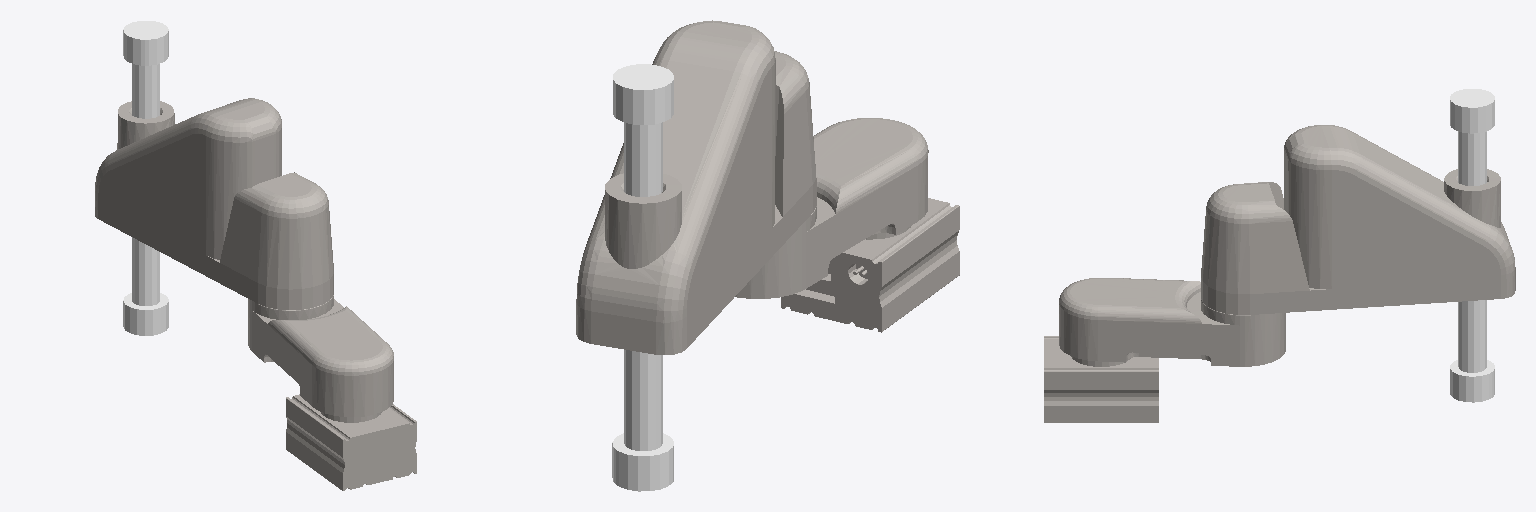
The robot description file, URDF, robot "TayGap":
<?xml version="1.0" encoding="utf-8"?>
<!-- This URDF was automatically created by SolidWorks to URDF Exporter! Originally created by [author] ([email redacted]) 
     Commit Version: 1.6.0-1-g15f4949  Build Version: 1.6.7594.29634
     For more information, please see http://wiki.ros.org/sw_urdf_exporter -->
<robot
  name="TayGap">
  <link
    name="base_link">
    <inertial>
      <origin
        xyz="0.155089529965973 0.0891497928154382 0.106548243989106"
        rpy="0 0 0" />
      <mass
        value="27.154380119055" />
      <inertia
        ixx="0.128305251803877"
        ixy="-0.000131818581333414"
        ixz="-1.11496294415566E-05"
        iyy="0.119231744921295"
        iyz="0.000277151030321704"
        izz="0.0962057704956619" />
    </inertial>
    <visual>
      <origin
        xyz="0 0 0"
        rpy="0 0 0" />
      <geometry>
        <mesh
          filename="package://TayGap/meshes/base_link.STL" />
      </geometry>
      <material
        name="">
        <color
          rgba="0.776470588235294 0.756862745098039 0.737254901960784 1" />
      </material>
    </visual>
    <collision>
      <origin
        xyz="0 0 0"
        rpy="0 0 0" />
      <geometry>
        <mesh
          filename="package://TayGap/meshes/base_link.STL" />
      </geometry>
    </collision>
  </link>
  <link
    name="link_1">
    <inertial>
      <origin
        xyz="3.6563E-09 0.061786 0.15491"
        rpy="0 0 0" />
      <mass
        value="40.19" />
      <inertia
        ixx="0.50815"
        ixy="-1.6635E-09"
        ixz="8.2183E-09"
        iyy="0.50975"
        iyz="-0.033417"
        izz="0.12975" />
    </inertial>
    <visual>
      <origin
        xyz="0 0 0"
        rpy="0 0 0" />
      <geometry>
        <mesh
          filename="package://TayGap/meshes/link_1.STL" />
      </geometry>
      <material
        name="">
        <color
          rgba="0.77647 0.75686 0.73725 1" />
      </material>
    </visual>
    <collision>
      <origin
        xyz="0 0 0"
        rpy="0 0 0" />
      <geometry>
        <mesh
          filename="package://TayGap/meshes/link_1.STL" />
      </geometry>
    </collision>
  </link>
  <joint
    name="joint_1"
    type="continuous">
    <origin
      xyz="0.15509 -0.10565 0.14236"
      rpy="1.5708 0 3.0517" />
    <parent
      link="base_link" />
    <child
      link="link_1" />
    <axis
      xyz="0 1 0" />
  </joint>
  <link
    name="link_2">
    <inertial>
      <origin
        xyz="-3.4462E-08 0.12413 0.20373"
        rpy="0 0 0" />
      <mass
        value="118.94" />
      <inertia
        ixx="2.7618"
        ixy="8.7947E-06"
        ixz="4.7526E-08"
        iyy="2.3197"
        iyz="0.17283"
        izz="0.86325" />
    </inertial>
    <visual>
      <origin
        xyz="0 0 0"
        rpy="0 0 0" />
      <geometry>
        <mesh
          filename="package://TayGap/meshes/link_2.STL" />
      </geometry>
      <material
        name="">
        <color
          rgba="0.77647 0.75686 0.73725 1" />
      </material>
    </visual>
    <collision>
      <origin
        xyz="0 0 0"
        rpy="0 0 0" />
      <geometry>
        <mesh
          filename="package://TayGap/meshes/link_2.STL" />
      </geometry>
    </collision>
  </link>
  <joint
    name="joint_2"
    type="continuous">
    <origin
      xyz="0 0.094021 0.25"
      rpy="0 0.23991 0" />
    <parent
      link="link_1" />
    <child
      link="link_2" />
    <axis
      xyz="0 1 0" />
  </joint>
  <link
    name="link_3">
    <inertial>
      <origin
        xyz="-1.1102E-16 0 -0.077498"
        rpy="0 0 0" />
      <mass
        value="1.4255" />
      <inertia
        ixx="0.051417"
        ixy="0"
        ixz="-8.7334E-19"
        iyy="0.051417"
        iyz="-1.6922E-18"
        izz="0.00069051" />
    </inertial>
    <visual>
      <origin
        xyz="0 0 0"
        rpy="0 0 0" />
      <geometry>
        <mesh
          filename="package://TayGap/meshes/link_3.STL" />
      </geometry>
      <material
        name="">
        <color
          rgba="1 1 1 1" />
      </material>
    </visual>
    <collision>
      <origin
        xyz="0 0 0"
        rpy="0 0 0" />
      <geometry>
        <mesh
          filename="package://TayGap/meshes/link_3.STL" />
      </geometry>
    </collision>
  </link>
  <joint
    name="joint_3"
    type="prismatic">
    <origin
      xyz="0 0 0.40562"
      rpy="-1.5708 -0.85267 3.1416" />
    <parent
      link="link_2" />
    <child
      link="link_3" />
    <axis
      xyz="0 0 1" />
    <limit
      lower="0"
      upper="0"
      effort="0"
      velocity="0" />
  </joint>
</robot>

--- Render facts (derived) ---
3 views of the same robot in one strip: view 1: azimuth 30°, elevation 25°; view 2: azimuth 150°, elevation 25°; view 3: azimuth 270°, elevation 25° (orthographic).
Model TayGap with 4 links and 3 joints (2 continuous, 1 prismatic), rooted at base_link, posed every joint at zero.
Visible links, largest first — view 1: link_2, link_1, base_link, link_3; view 2: link_2, link_1, link_3, base_link; view 3: link_2, link_1, base_link, link_3.
Boxes of the visible links, bbox=[...] form: link_2: bbox=[95, 98, 333, 309]; link_1: bbox=[248, 295, 393, 416]; base_link: bbox=[286, 394, 416, 490]; link_3: bbox=[123, 21, 168, 335]; link_2: bbox=[576, 20, 816, 354]; link_1: bbox=[735, 118, 928, 298]; link_3: bbox=[612, 64, 673, 491]; base_link: bbox=[781, 198, 959, 332]; link_2: bbox=[1201, 125, 1515, 314]; link_1: bbox=[1059, 278, 1285, 366]; base_link: bbox=[1044, 336, 1158, 422]; link_3: bbox=[1450, 89, 1494, 402].
Size in the robot's own frame: 0.2156 by 0.8254 by 0.5765 metres.
Meshes: 4 distinct files referenced, 4 mesh visuals loaded (4 binary STL).